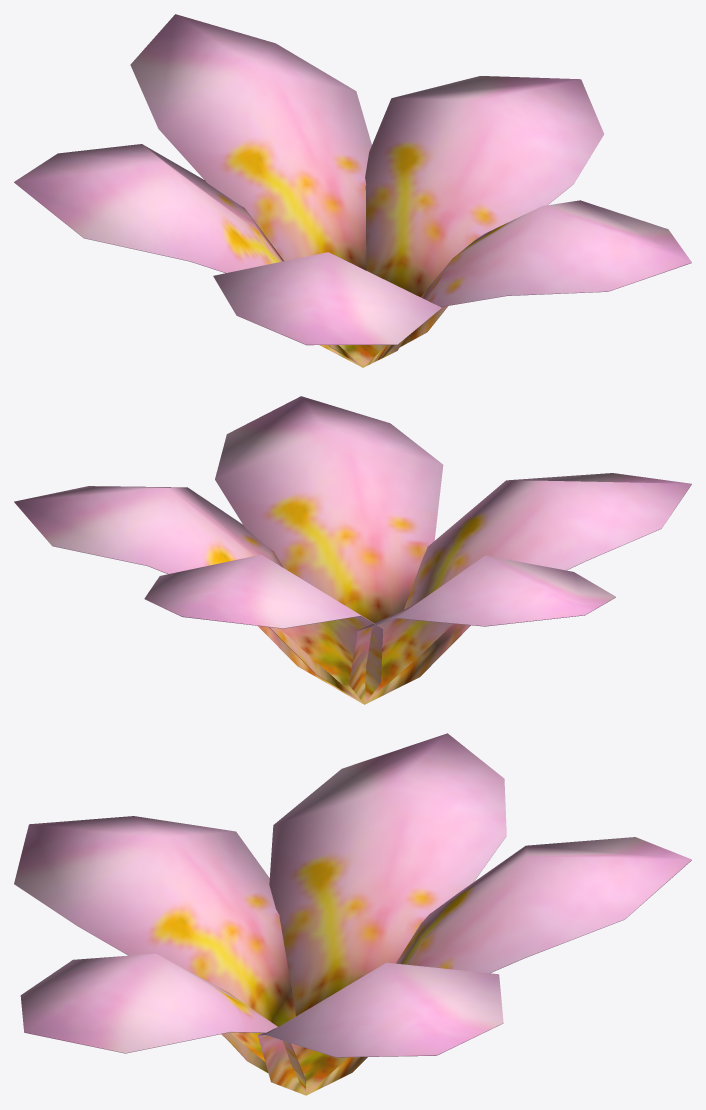
The model's file is flower_1_1_pink.fbx.
The picture shows the model from 3 angles, top to bottom: view 1: azimuth 30°, elevation 25°; view 2: azimuth 150°, elevation 25°; view 3: azimuth 270°, elevation 25°; orthographic projection. The views are drawn at different scales.
Parts seen in each view (by area): view 1: flower_1_pink; view 2: flower_1_pink; view 3: flower_1_pink.
Boxes of the visible parts, left/top/right/bottom form: flower_1_pink: left=14, top=14, right=691, bottom=367; flower_1_pink: left=14, top=396, right=691, bottom=704; flower_1_pink: left=14, top=733, right=691, bottom=1095.
Bounding box in the file's own units: 0.808 × 0.3079 × 0.7996.
